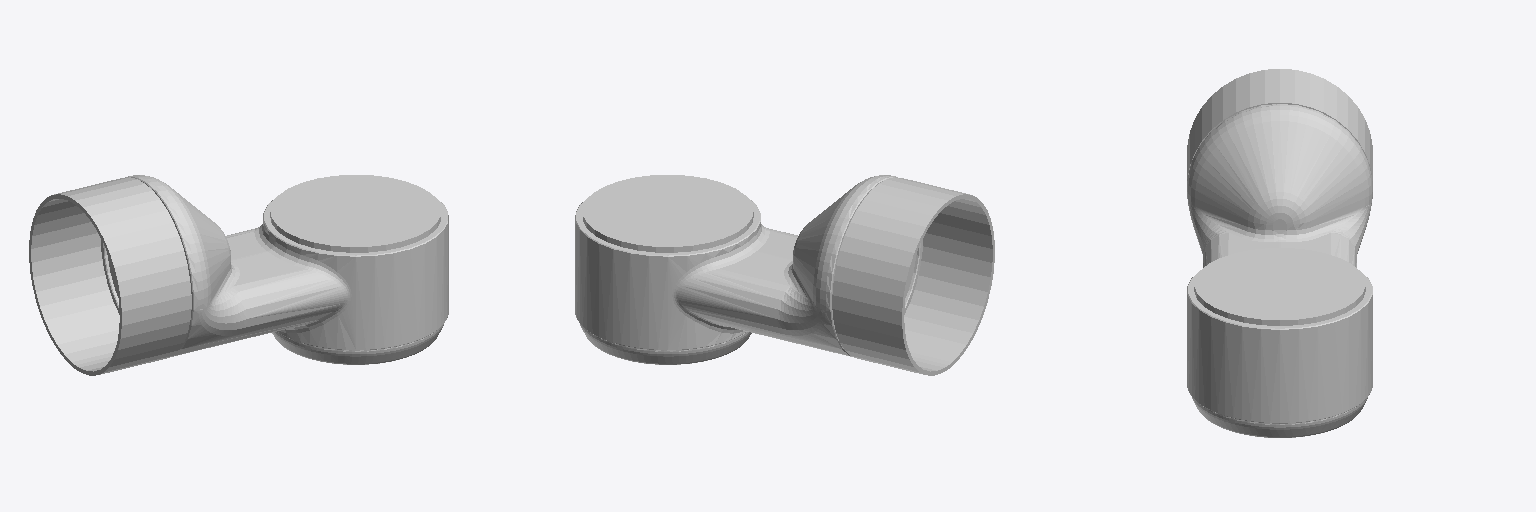
Rendered from upperarm_roll_link.obj.
The picture shows the model from 3 angles: view 1: azimuth 30°, elevation 25°; view 2: azimuth 150°, elevation 25°; view 3: azimuth 270°, elevation 25°; orthographic projection.
Parts seen in each view (by area): view 1: obj1; view 2: obj1; view 3: obj1.
Part boxes in pixels (left/top/right/bottom): obj1: left=29, top=175, right=448, bottom=375; obj1: left=575, top=175, right=994, bottom=375; obj1: left=1187, top=69, right=1372, bottom=437.
Bounding box in the file's own units: 0.233 × 0.1225 × 0.104.